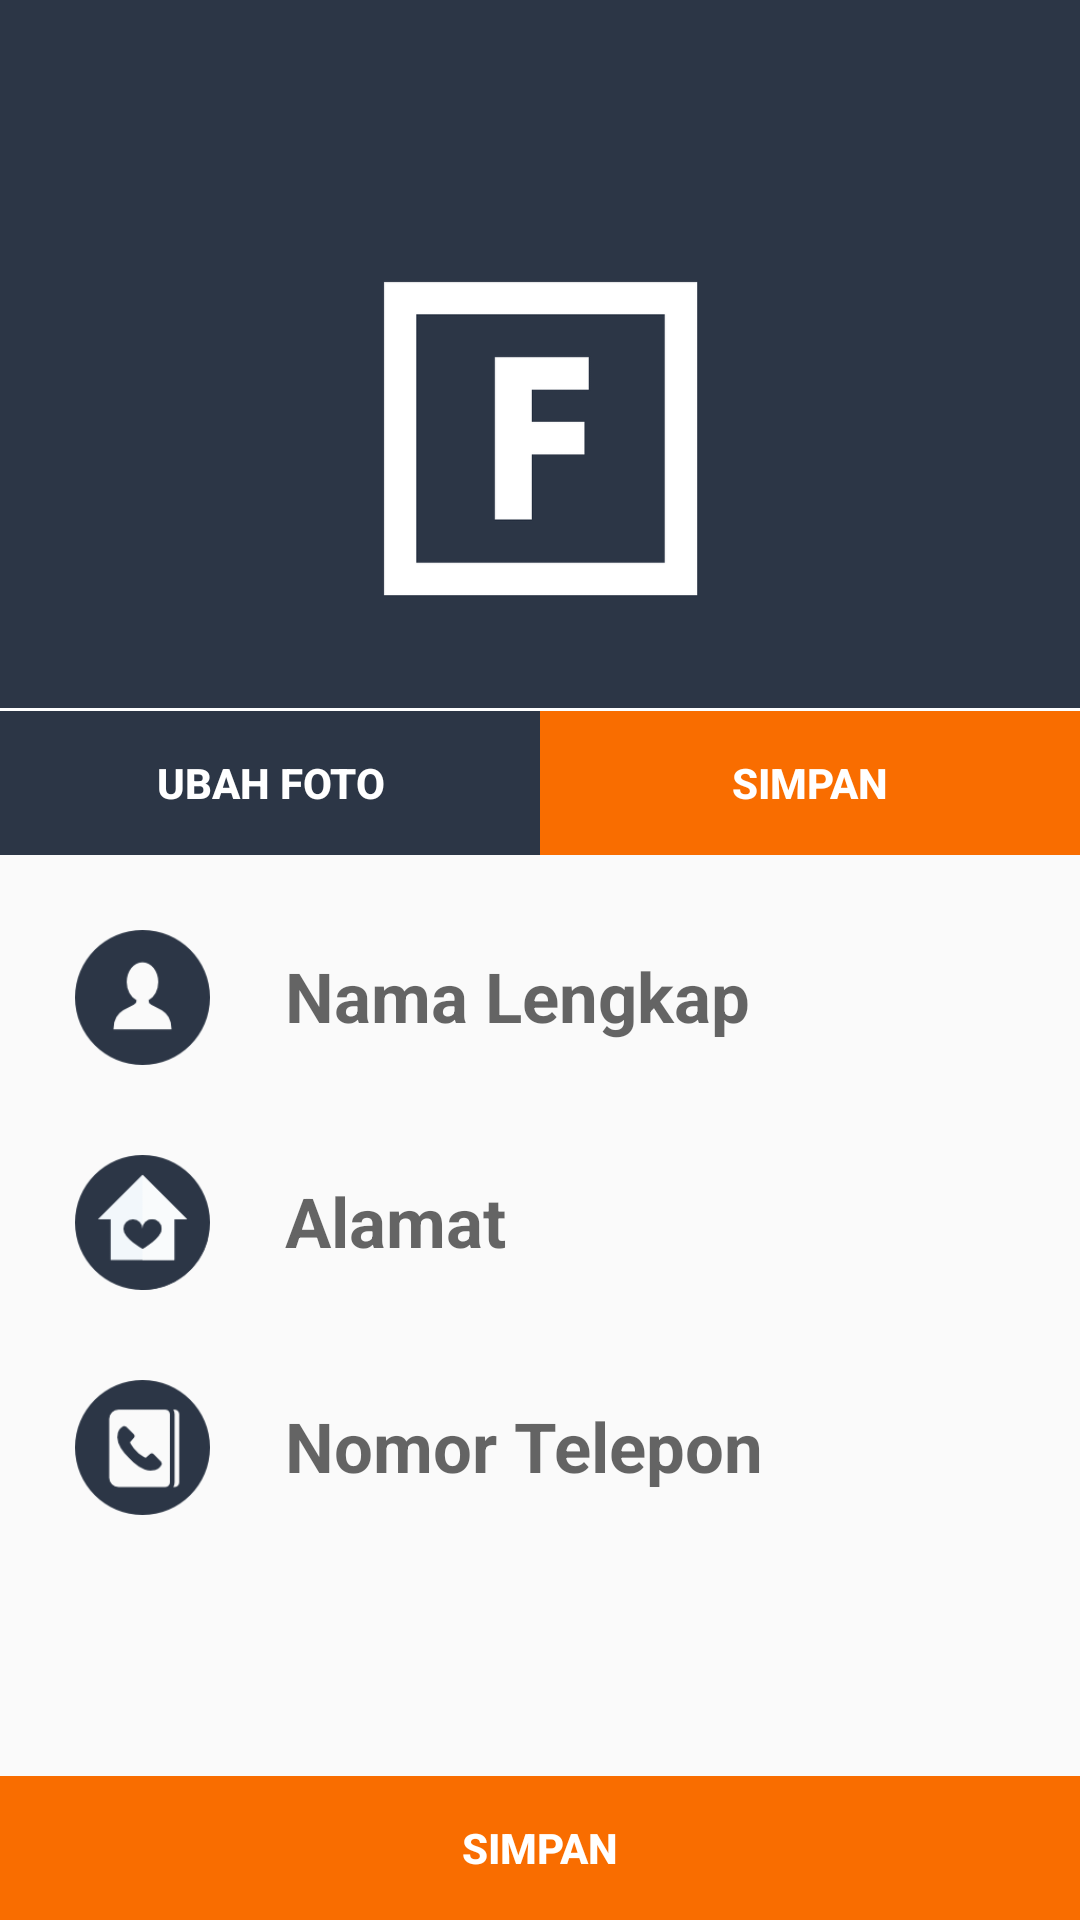

Icons on this 1080x1920 Android screen, each with the point to tap as point (x, y):
home: point (142, 1222)
phone: point (142, 1447)
profil: point (142, 997)
